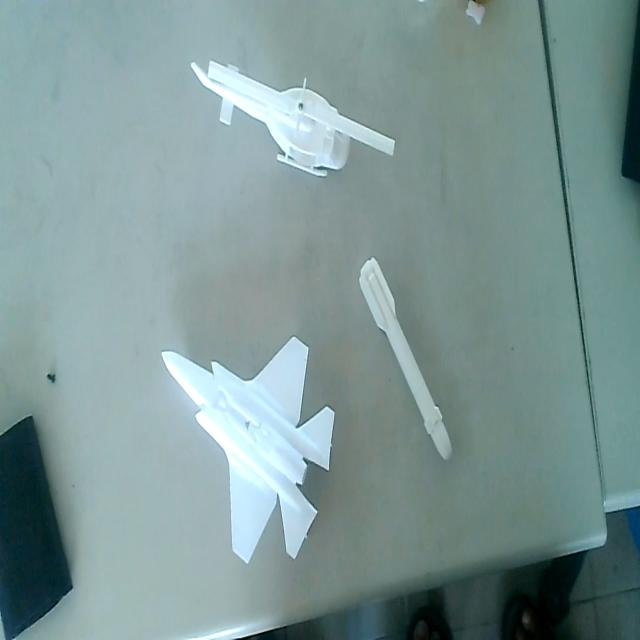Helicopter: (192, 52, 395, 187)
Jet: (160, 334, 336, 575)
Rocket: (358, 252, 456, 467)
